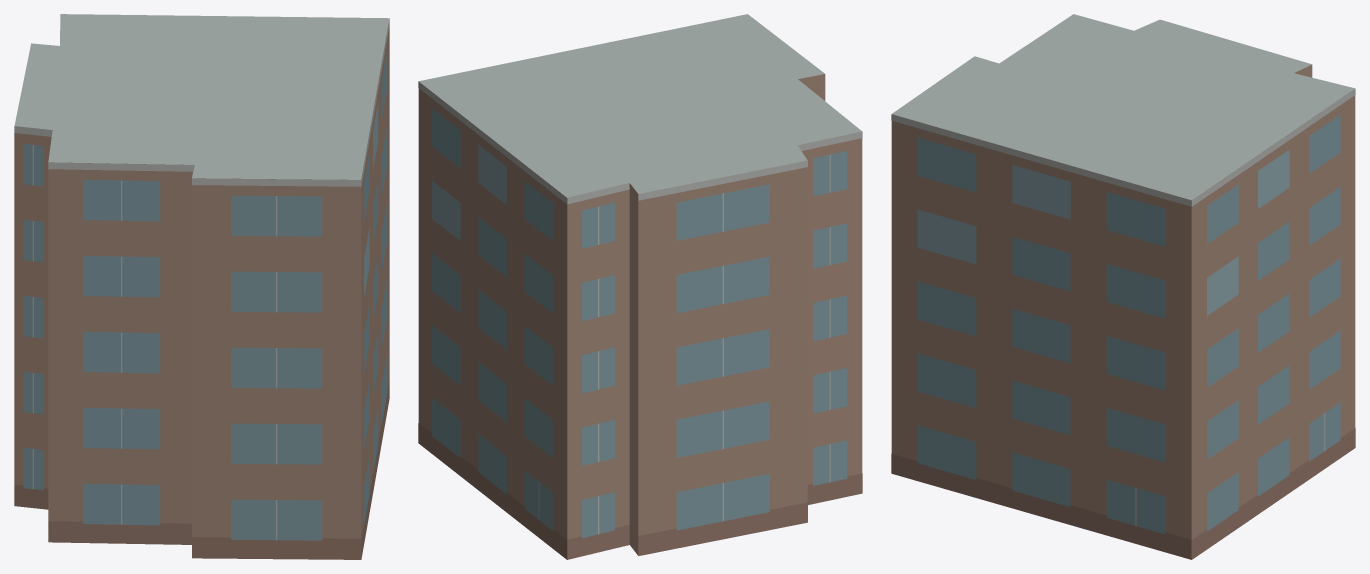
The model's file is survey-upis-32813552.glb.
3 renders of one model, left to right at view 1: azimuth 30°, elevation 25°; view 2: azimuth 150°, elevation 25°; view 3: azimuth 270°, elevation 25°, orthographic. The views are drawn at different scales.
Parts seen in each view (by area): view 1: survey-upis-32813552.tmp; view 2: survey-upis-32813552.tmp; view 3: survey-upis-32813552.tmp.
Boxes of the visible parts, bbox=[...] form: survey-upis-32813552.tmp: bbox=[14, 14, 389, 559]; survey-upis-32813552.tmp: bbox=[418, 14, 862, 559]; survey-upis-32813552.tmp: bbox=[891, 14, 1355, 559].
Size of the model in its own units: 15.02 by 13.5 by 15.8.
